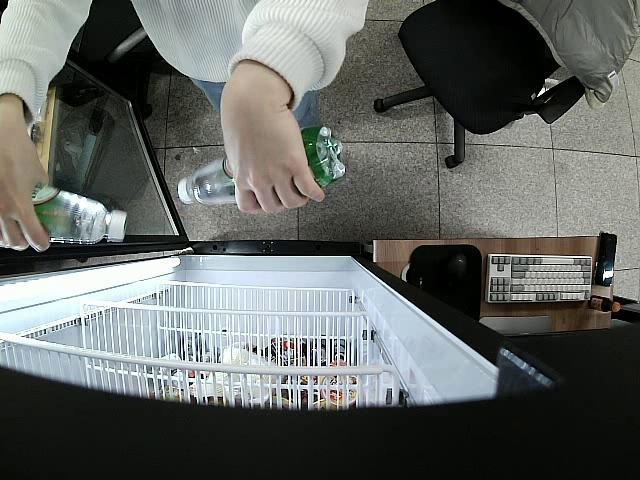18_trevi: (175, 124, 347, 207), (30, 184, 128, 246)
